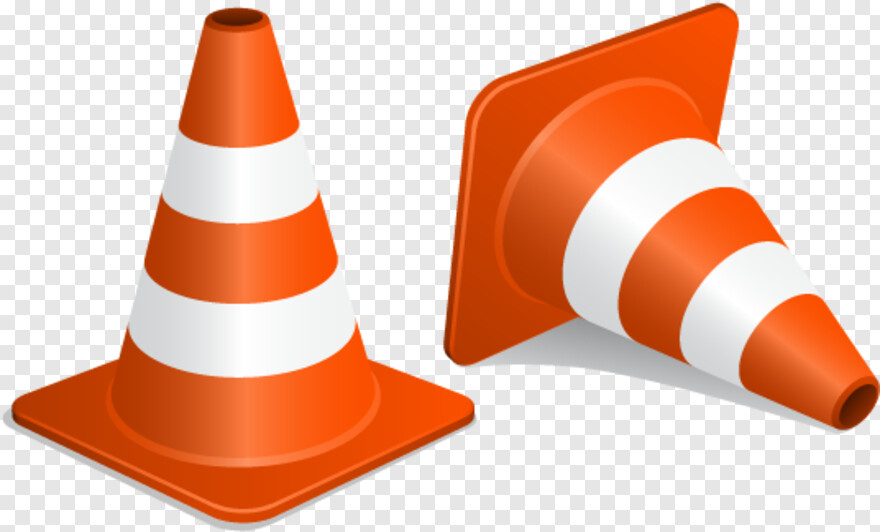cones: (22, 6, 480, 516), (432, 2, 880, 433)
